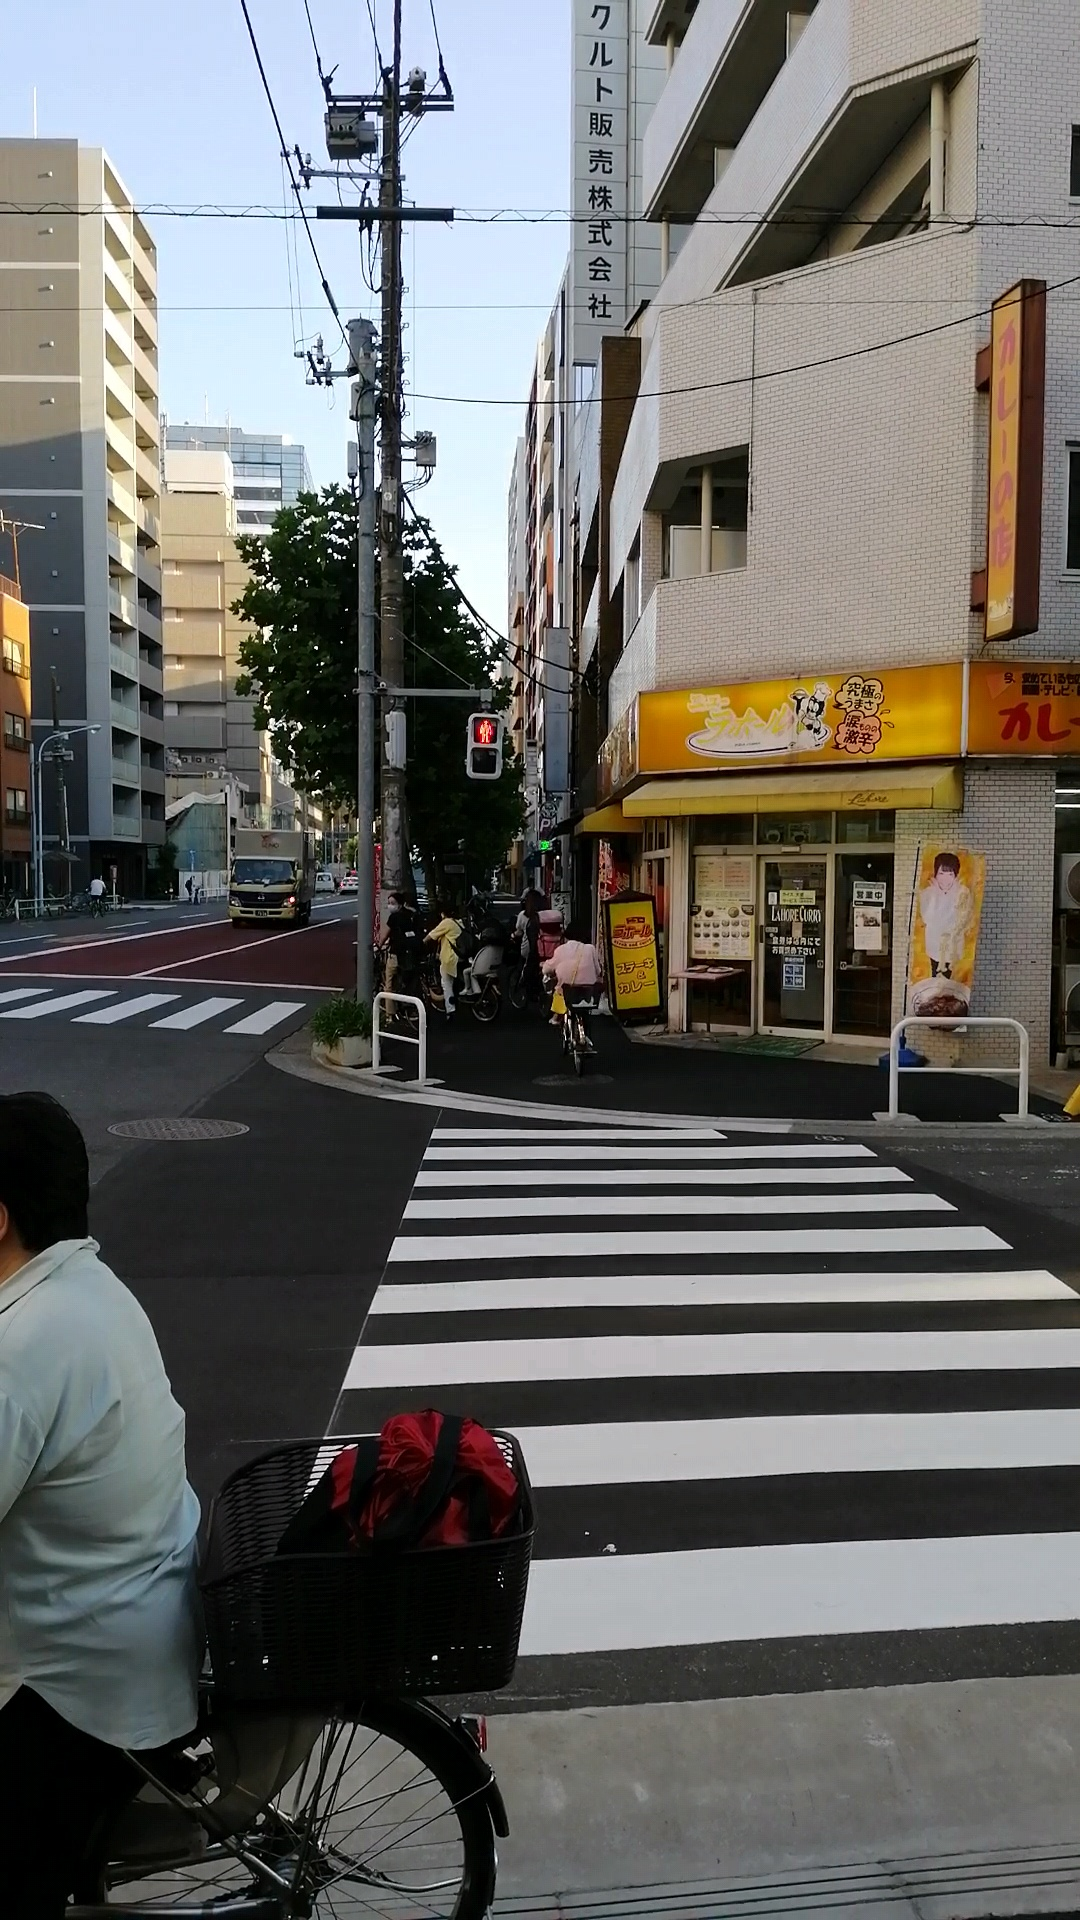red: (465, 711, 500, 779)
